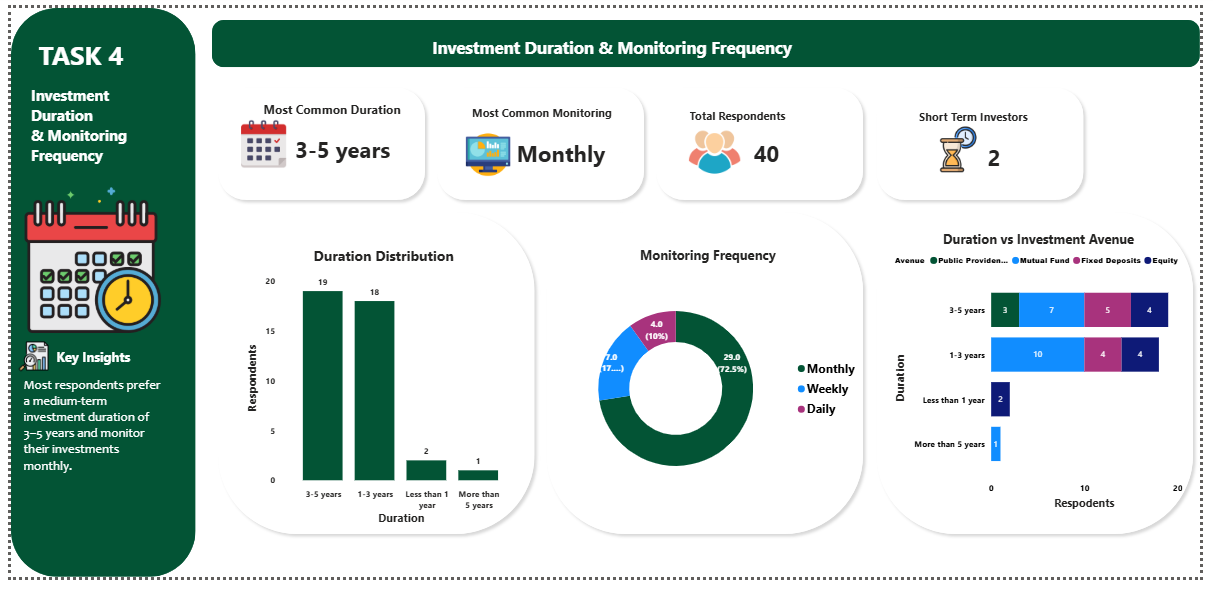

The dashboard page shown, as its layout file describes it:
{"tool":"powerbi","page":{"name":"Task 4","canvas":[1714,820],"ordinal":3},"visuals":[{"type":"shape","box":[0,0,266,820],"z":0},{"type":"shape","box":[290,18,1424,68],"z":1000},{"type":"textbox","box":[34,36,190,70],"z":2000},{"type":"textbox","box":[24,106,212,180],"z":3000},{"type":"image","box":[14,246,210,234],"z":4000},{"type":"shape","box":[290,106,316,180],"z":5000},{"type":"shape","box":[606,106,316,180],"z":6000},{"type":"shape","box":[922,106,316,180],"z":7000},{"type":"shape","box":[1238,106,316,180],"z":8000},{"type":"cardVisual","fields":{"Data":["Data_set 2.Most Common Duration"]},"box":[336,106,286,146],"z":9000},{"type":"image","box":[322,160,84,72],"z":10000},{"type":"cardVisual","fields":{"Data":["Data_set 2.Most Common Monitoring"]},"box":[636,106,314,158],"z":11000},{"type":"image","box":[636,180,104,64],"z":12000},{"type":"cardVisual","fields":{"Data":["Data_set 2.Total Respondents"]},"box":[950,118,280,136],"z":13000},{"type":"image","box":[950,170,130,74],"z":14000},{"type":"cardVisual","fields":{"Data":["Data_set 2.Short Term Investors"]},"box":[1280,116,274,148],"z":15000},{"type":"image","box":[1296,170,140,66],"z":16000},{"type":"shape","box":[290,286,474,482],"z":17000},{"type":"shape","box":[764,286,474,482],"z":18000},{"type":"shape","box":[1240,286,474,482],"z":19000},{"type":"clusteredColumnChart","title":"Duration Distribution","fields":{"Category":["Data_set 2.Duration"],"Y":["CountNonNull(Data_set 2.Duration)"]},"box":[336,344,404,406],"z":20000},{"type":"donutChart","title":"Monitoring Frequency","fields":{"Category":["Data_set 2.Invest_Monitor"],"Y":["CountNonNull(Data_set 2.Invest_Monitor)"]},"box":[778,344,452,384],"z":21000},{"type":"barChart","title":"Duration vs Investment Avenue","fields":{"Category":["Data_set 2.Duration"],"Y":["CountNonNull(Data_set 2.Duration)"],"Series":["Data_set 2.Avenue"]},"box":[1270,320,424,408],"z":22000},{"type":"textbox","box":[338,34,1058,52],"z":23000},{"type":"textbox","box":[61.2,485.1,164.5,42.2],"z":24000},{"type":"image","box":[0,480.9,65.4,44.3],"z":25000},{"type":"textbox","box":[13.8,524.6,210.5,224.3],"z":26000}]}

Visuals, with their boxes in screenshot pixels (x1, y1, x2, y2), scaled from the page's 1714x820 canvas onto the 1213x595 screenshot:
shape: 0,0,188,594
shape: 205,13,1212,62
textbox: 24,26,159,77
textbox: 17,77,167,208
image: 10,178,159,348
shape: 205,77,429,208
shape: 429,77,653,208
shape: 653,77,876,208
shape: 876,77,1100,208
cardVisual - Data_set 2.Most Common Duration: 238,77,440,183
image: 228,116,287,168
cardVisual - Data_set 2.Most Common Monitoring: 450,77,672,192
image: 450,131,524,177
cardVisual - Data_set 2.Total Respondents: 672,86,870,184
image: 672,123,764,177
cardVisual - Data_set 2.Short Term Investors: 906,84,1100,192
image: 917,123,1016,171
shape: 205,208,541,557
shape: 541,208,876,557
shape: 878,208,1212,557
"Duration Distribution" clusteredColumnChart: 238,250,524,544
"Monitoring Frequency" donutChart: 551,250,870,528
"Duration vs Investment Avenue" barChart: 899,232,1199,528
textbox: 239,25,988,62
textbox: 43,352,160,383
image: 0,349,46,381
textbox: 10,381,159,543
